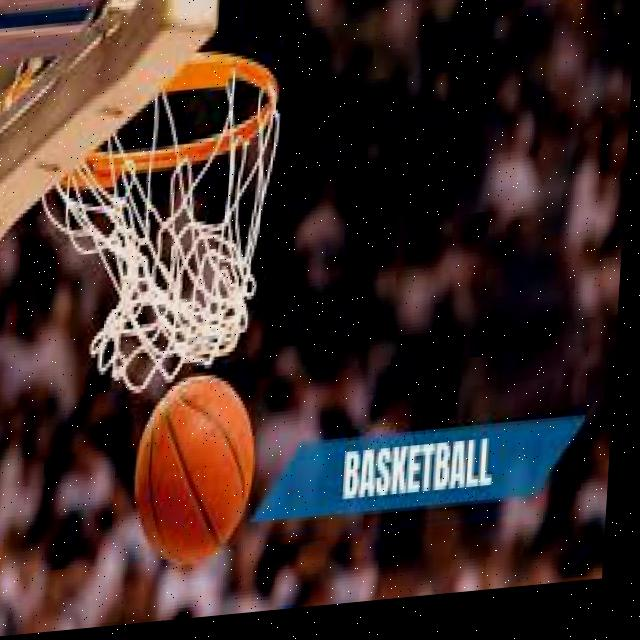Basketball: (129, 371, 261, 570)
